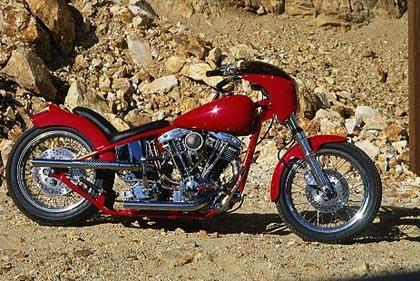motorcycle: (3, 46, 396, 248)
